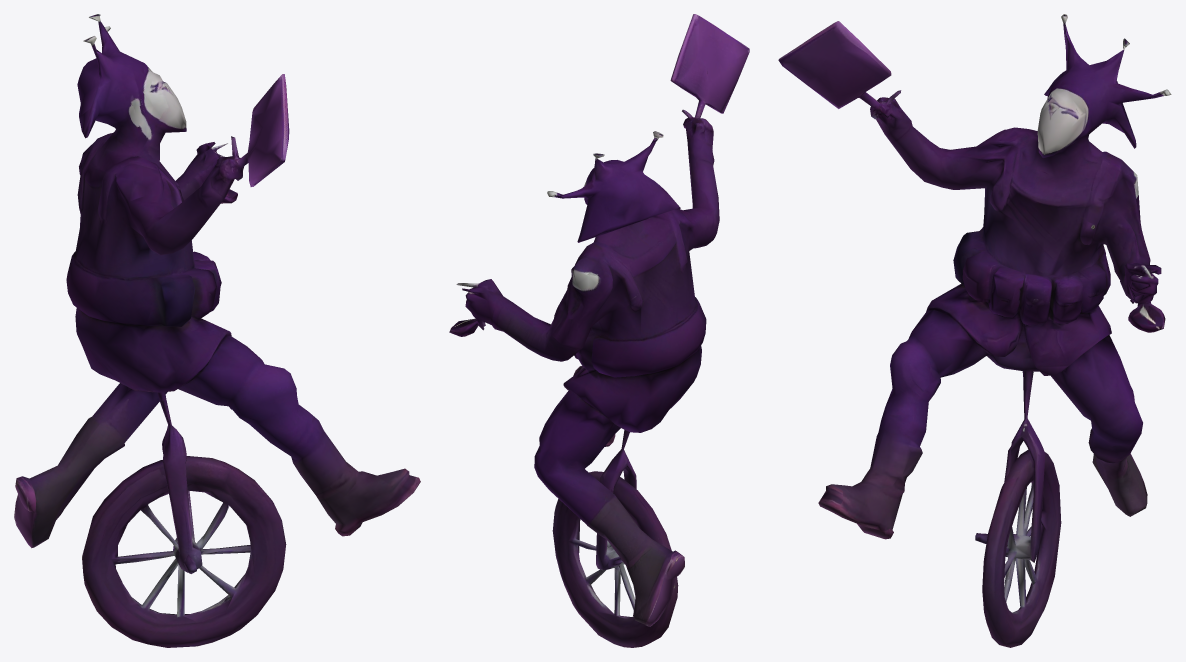
3 views of the same model, side by side, from view 1: azimuth 30°, elevation 25°; view 2: azimuth 150°, elevation 25°; view 3: azimuth 270°, elevation 25° (orthographic). The views are drawn at different scales.
Visible parts, largest first — view 1: tripo_node_2adffdd8-249d-4e71-87fc-b412d07abc3a; view 2: tripo_node_2adffdd8-249d-4e71-87fc-b412d07abc3a; view 3: tripo_node_2adffdd8-249d-4e71-87fc-b412d07abc3a.
Boxes of the visible parts, bbox=[...] form: tripo_node_2adffdd8-249d-4e71-87fc-b412d07abc3a: bbox=[14, 14, 420, 647]; tripo_node_2adffdd8-249d-4e71-87fc-b412d07abc3a: bbox=[449, 14, 749, 647]; tripo_node_2adffdd8-249d-4e71-87fc-b412d07abc3a: bbox=[778, 14, 1171, 647].
Size of the model in its own units: 0.4267 by 0.9982 by 0.575.
1 material, 1 textured.
